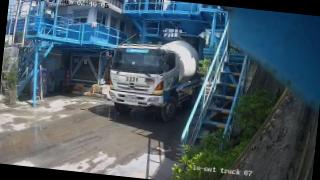cement_mixer_truck: (106, 40, 204, 122)
